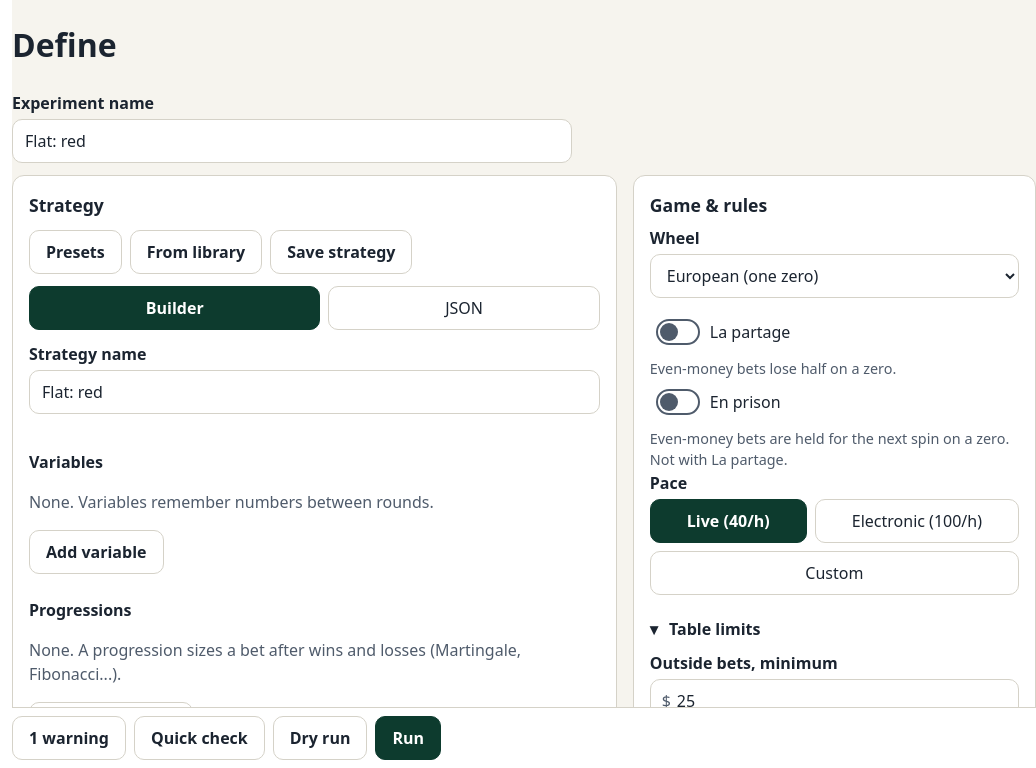
Test: Define structure › Quick check shows a one-line verdict from the runner
Step 1. Click the button "Quick check" → [199, 738], box left=134, top=716, right=265, bottom=760
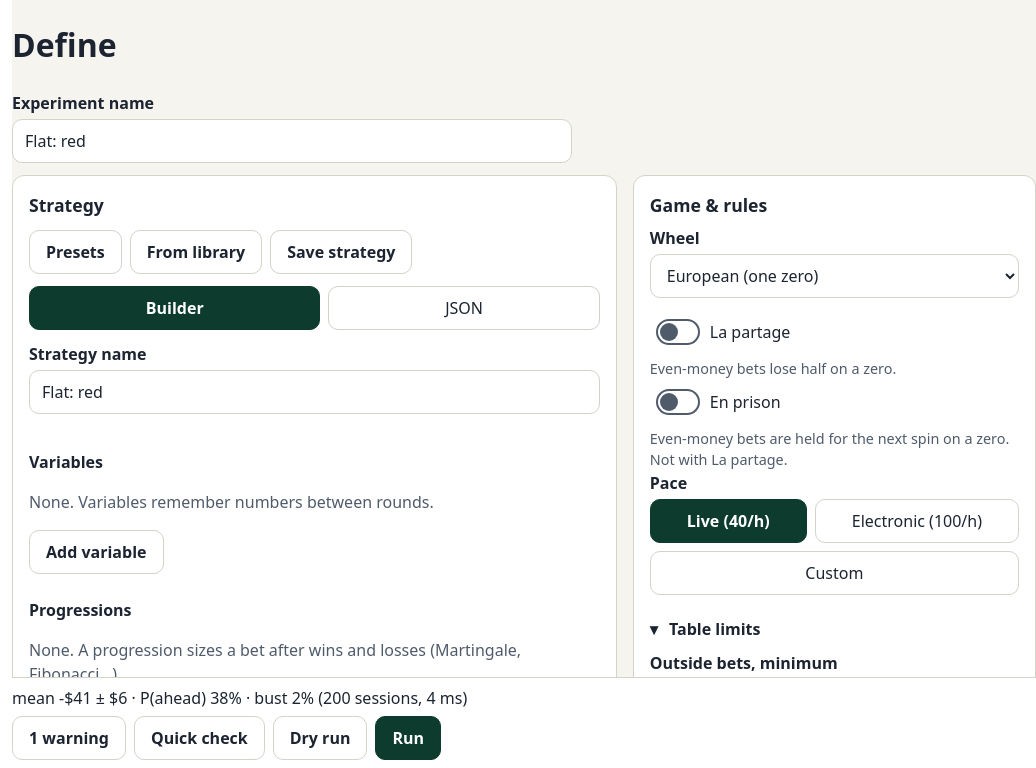
Expected: the message shows "P(ahead) 38%", left=12, top=687, right=467, bottom=709
